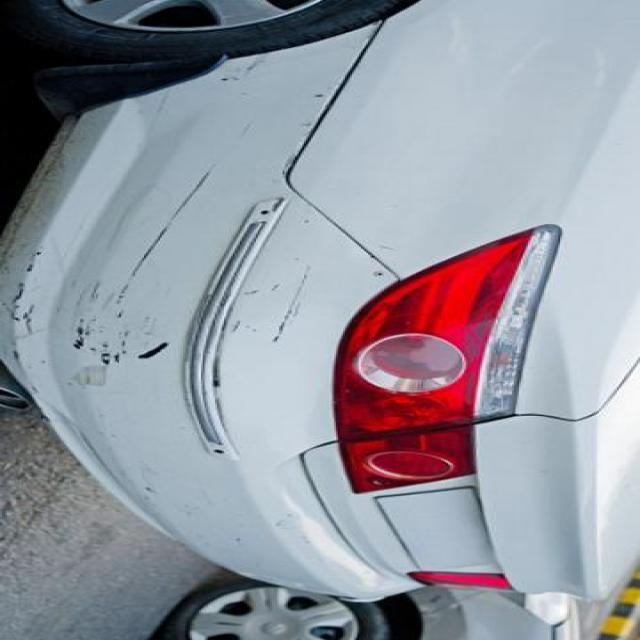scratch: (97, 155, 236, 316), (260, 260, 326, 352)
